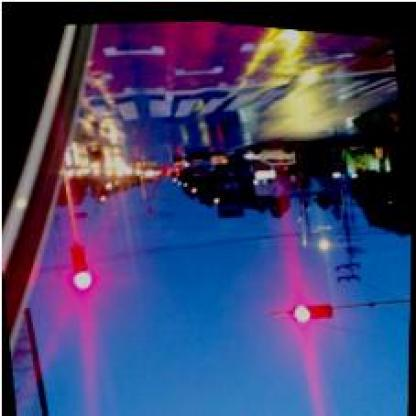red: (68, 241, 93, 290), (292, 295, 335, 317)
